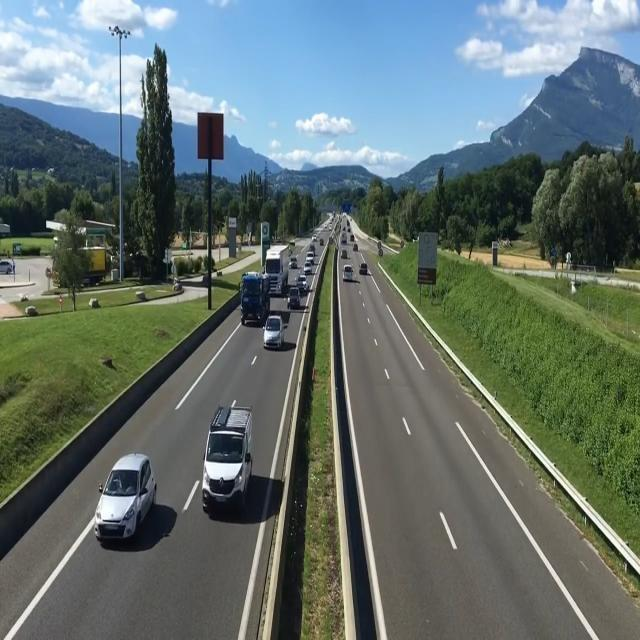Car: (92, 452, 156, 544), (200, 404, 256, 508), (261, 316, 289, 348), (285, 287, 301, 309), (0, 260, 15, 274), (295, 275, 308, 290), (303, 260, 314, 274), (359, 262, 369, 274), (288, 257, 298, 268), (340, 249, 349, 259)
Truck: (238, 270, 272, 328), (264, 242, 289, 296)
Van: (342, 264, 353, 281), (306, 251, 316, 260)
